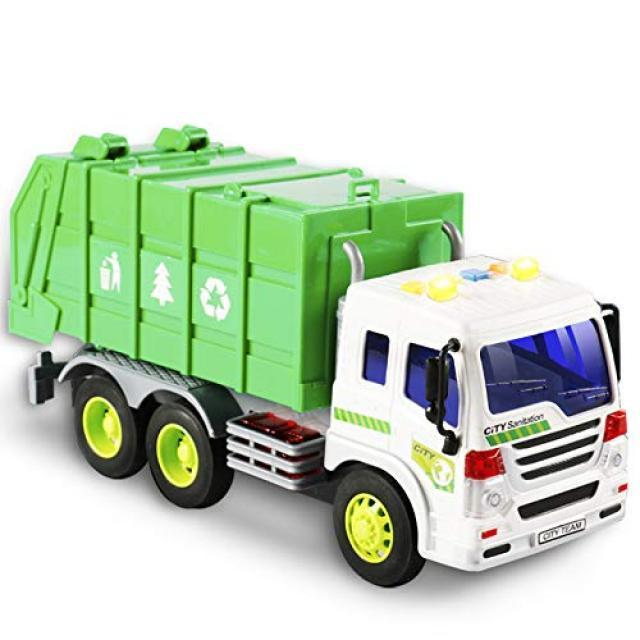traffic light: (5, 122, 630, 588)
